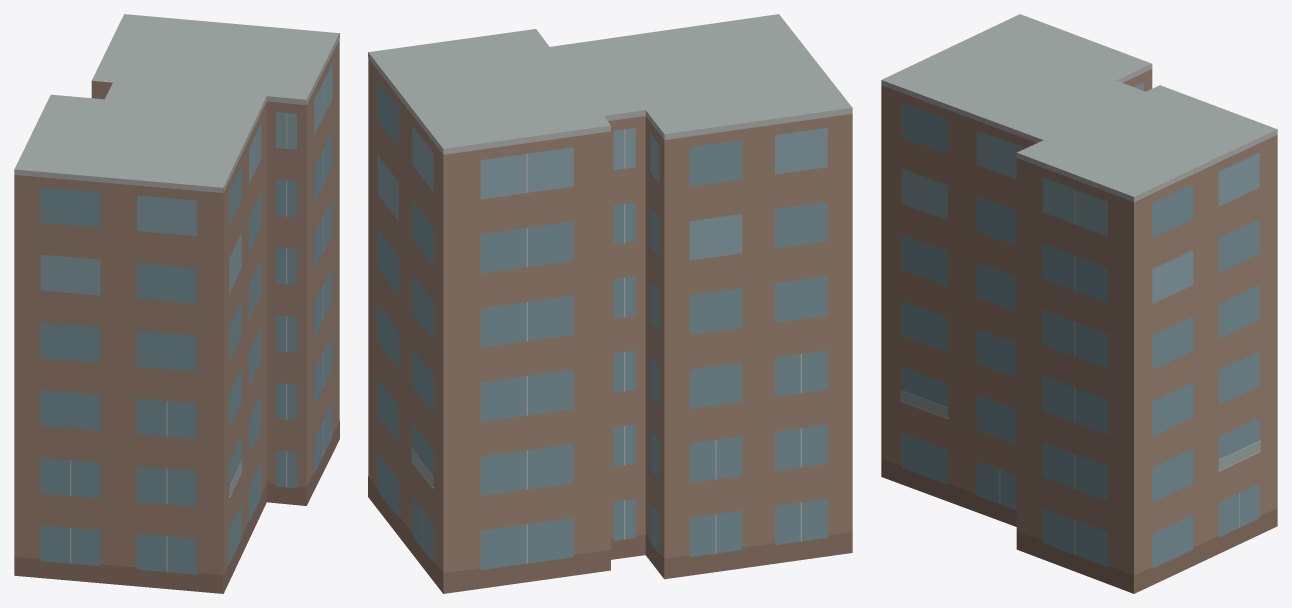
File: survey-upis-32523390.glb
3 renders of one model, left to right at view 1: azimuth 30°, elevation 25°; view 2: azimuth 150°, elevation 25°; view 3: azimuth 270°, elevation 25°, orthographic. The views are drawn at different scales.
Parts seen in each view (by area): view 1: survey-upis-32523390.tmp; view 2: survey-upis-32523390.tmp; view 3: survey-upis-32523390.tmp.
Boxes of the visible parts, box(x1,y1,x2,y2) form: survey-upis-32523390.tmp: box(14, 14, 339, 593); survey-upis-32523390.tmp: box(368, 14, 852, 593); survey-upis-32523390.tmp: box(881, 14, 1277, 593).
Size of the model in its own units: 18.41 by 18.6 by 16.85.
